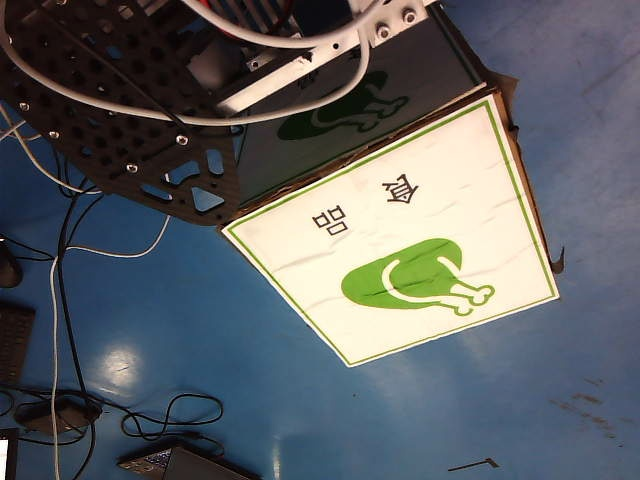Cube_food: (295, 165, 507, 323)
